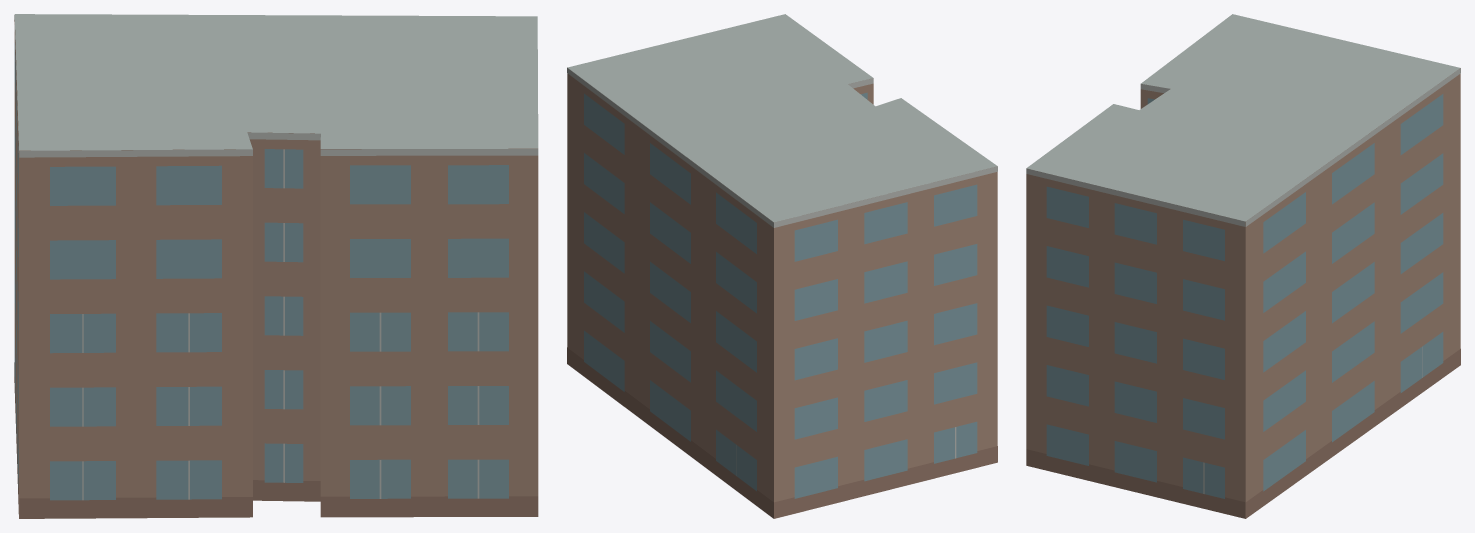
File: survey-upis-33044429.glb
3 renders of one model, left to right at view 1: azimuth 30°, elevation 25°; view 2: azimuth 150°, elevation 25°; view 3: azimuth 270°, elevation 25°, orthographic. The views are drawn at different scales.
Visible parts, largest first — view 1: survey-upis-33044429.tmp; view 2: survey-upis-33044429.tmp; view 3: survey-upis-33044429.tmp.
Part boxes in pixels (x1,y1,x2,y2): survey-upis-33044429.tmp: (14,14,538,518); survey-upis-33044429.tmp: (567,14,997,518); survey-upis-33044429.tmp: (1026,14,1460,518).
Size of the model in its own units: 19.78 by 13.2 by 17.49.
